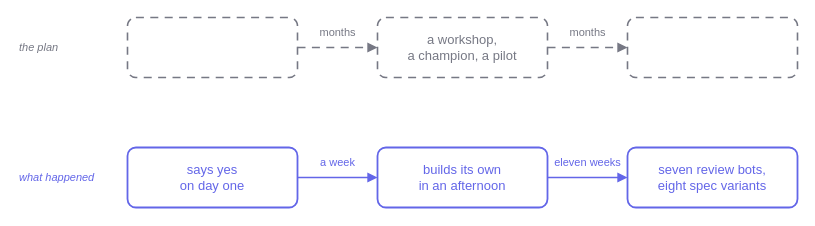
This 815x226 diagram has some shape labels left out. The shapes that lost their labels are listed below. From the top down, each one's centre as x and y in pixels, then its label:
At point 212,47: "a skeptic".
At point 712,47: "adopts the one shared way".
